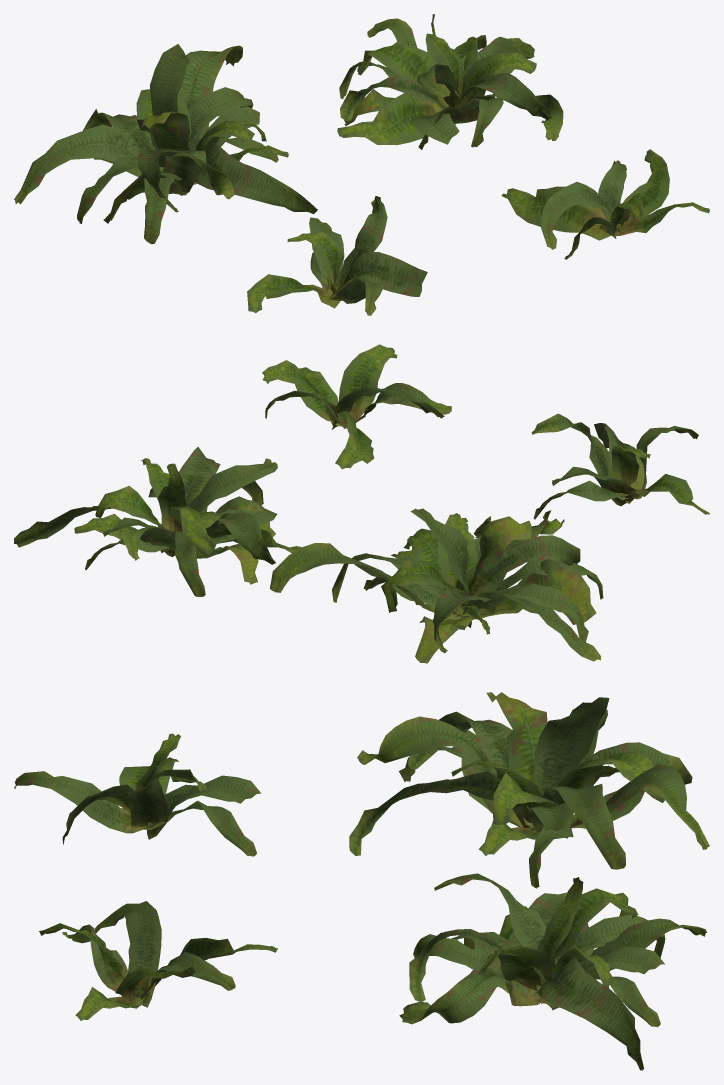
Rendered from fern_02.glb.
3 renders of one model, top to bottom at view 1: azimuth 30°, elevation 25°; view 2: azimuth 150°, elevation 25°; view 3: azimuth 270°, elevation 25°, orthographic. The views are drawn at different scales.
Visible parts, largest first — view 1: fern_02_b; view 2: fern_02_b; view 3: fern_02_b.
Boxes of the visible parts, box(x1,y1,x2,y2) form: fern_02_b: box(14, 14, 709, 315); fern_02_b: box(14, 344, 709, 663); fern_02_b: box(14, 692, 709, 1070).
Bounding box in the file's own units: 1.97 × 0.4277 × 1.72.
Materials: 1 (1 with a texture image).
